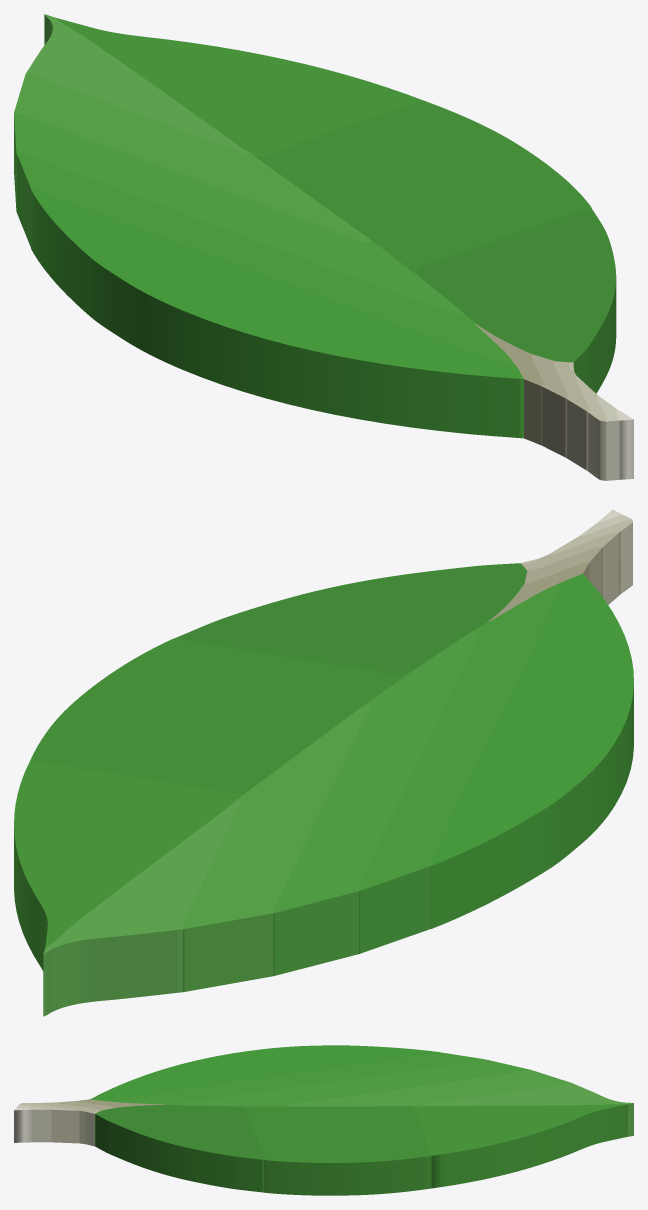
File: mongodb.glb
3 renders of one model, top to bottom at view 1: azimuth 30°, elevation 25°; view 2: azimuth 150°, elevation 25°; view 3: azimuth 270°, elevation 25°, orthographic. The views are drawn at different scales.
Visible parts, largest first — view 1: Curve.001; view 2: Curve.001; view 3: Curve.001.
Boxes of the visible parts, box(x1,y1,x2,y2) form: Curve.001: box(14, 14, 633, 480); Curve.001: box(14, 509, 633, 1016); Curve.001: box(14, 1045, 633, 1195).
Size of the model in its own units: 1.7 by 0.2202 by 3.79.
